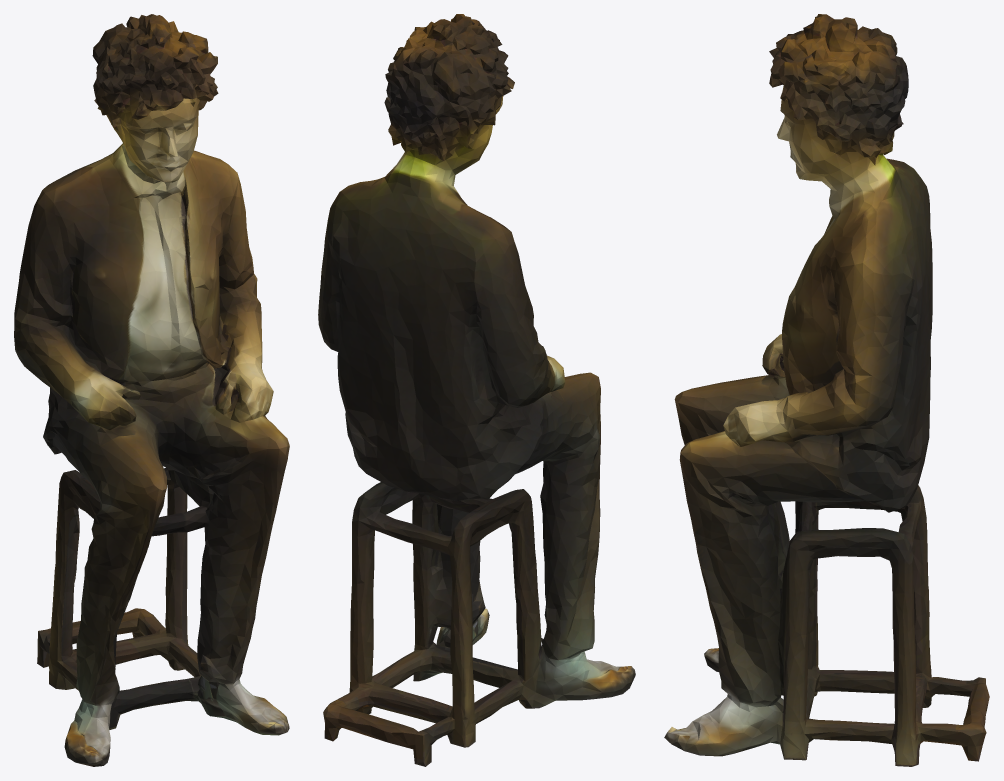
Rendered from Solitude_at_Sunrise_0330202342_texture.fbx.
The picture shows the model from 3 angles, left to right: view 1: azimuth 30°, elevation 25°; view 2: azimuth 150°, elevation 25°; view 3: azimuth 270°, elevation 25°; orthographic projection. The views are drawn at different scales.
Visible parts, largest first — view 1: temp; view 2: temp; view 3: temp.
Part boxes in pixels (left/top/right/bottom): temp: left=14, top=14, right=289, bottom=766; temp: left=318, top=14, right=635, bottom=766; temp: left=664, top=14, right=989, bottom=766.
Size of the model in its own units: 74.48 by 200 by 82.18.
1 material, 1 textured.
